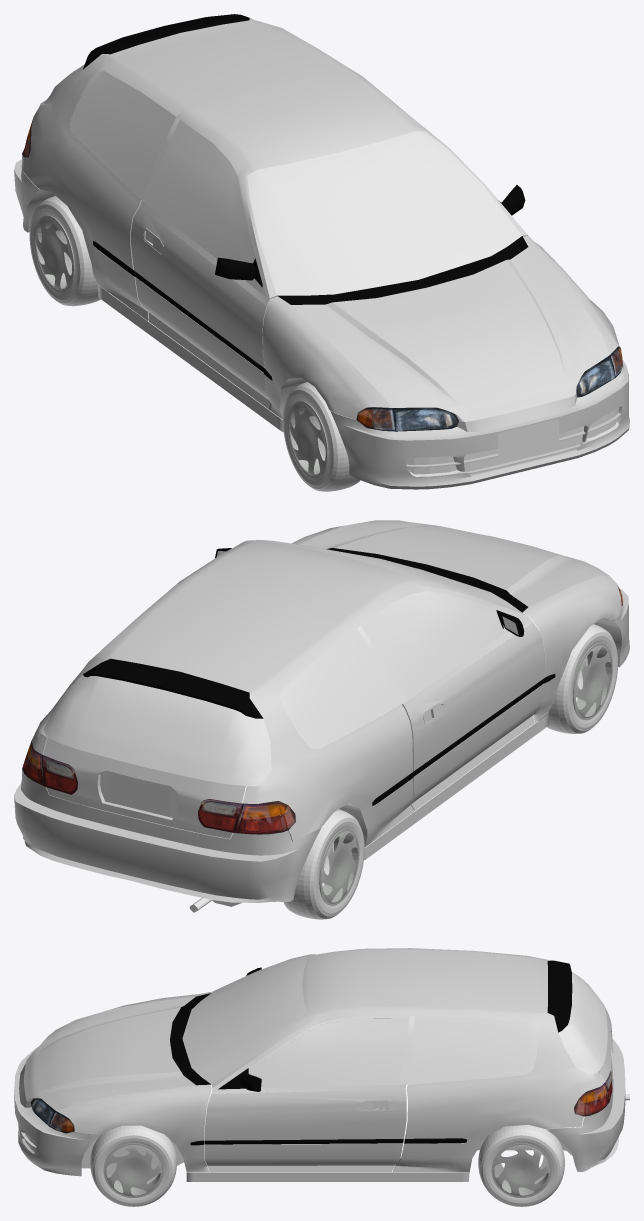
The model's file is CivicEg6_FreeToBlend.fbx.
3 views of the same model, one above another, from view 1: azimuth 30°, elevation 25°; view 2: azimuth 150°, elevation 25°; view 3: azimuth 270°, elevation 25° (orthographic). The views are drawn at different scales.
Parts seen in each view (by area): view 1: mainbody, frontbumper.001, mainbody.001, frontbumper, front fender, mainbody.002, mainbody.003, Circle.003, Circle.002, mainbody.005, frontbumper.005, sideskirt (+7 smaller); view 2: mainbody, rear bumper, trunk.001, frontbumper.001, mainbody.002, mainbody.003, trunk, front fender, Circle.003, Circle.002, mainbody.004, spoiler (+6 smaller); view 3: mainbody, frontbumper.001, mainbody.001, mainbody.002, mainbody.003, front fender, Circle.001, Circle, frontbumper, rear bumper, trunk.001, sideskirt (+9 smaller).
Part boxes in pixels (x1=…): mainbody: x1=22, y1=18, x2=528, y2=408; frontbumper.001: x1=291, y1=247, x2=609, y2=421; mainbody.001: x1=247, y1=131, x2=521, y2=295; frontbumper: x1=330, y1=359, x2=629, y2=489; front fender: x1=262, y1=236, x2=620, y2=419; mainbody.002: x1=146, y1=119, x2=266, y2=296; mainbody.003: x1=69, y1=71, x2=176, y2=199; Circle.003: x1=29, y1=195, x2=100, y2=306; Circle.002: x1=283, y1=382, x2=360, y2=491; mainbody.005: x1=277, y1=236, x2=528, y2=304; frontbumper.005: x1=405, y1=407, x2=618, y2=475; sideskirt: x1=98, y1=285, x2=283, y2=432; mainbody: x1=31, y1=540, x2=545, y2=847; rear bumper: x1=14, y1=769, x2=321, y2=902; trunk.001: x1=43, y1=674, x2=271, y2=785; frontbumper.001: x1=300, y1=520, x2=609, y2=606; mainbody.002: x1=361, y1=591, x2=524, y2=700; mainbody.003: x1=93, y1=629, x2=402, y2=749; trunk: x1=43, y1=738, x2=245, y2=838; front fender: x1=292, y1=526, x2=621, y2=723; Circle.003: x1=283, y1=809, x2=364, y2=919; Circle.002: x1=536, y1=624, x2=617, y2=733; mainbody.004: x1=22, y1=741, x2=295, y2=834; spoiler: x1=83, y1=658, x2=263, y2=718; mainbody: x1=204, y1=948, x2=604, y2=1172; frontbumper.001: x1=24, y1=996, x2=195, y2=1110; mainbody.001: x1=182, y1=955, x2=308, y2=1084; mainbody.002: x1=248, y1=1016, x2=409, y2=1086; mainbody.003: x1=406, y1=1016, x2=537, y2=1084; front fender: x1=56, y1=992, x2=211, y2=1172; Circle.001: x1=478, y1=1124, x2=564, y2=1206; Circle: x1=90, y1=1125, x2=176, y2=1206; frontbumper: x1=14, y1=1047, x2=100, y2=1176; rear bumper: x1=546, y1=1039, x2=625, y2=1171; trunk.001: x1=558, y1=972, x2=607, y2=1073; sideskirt: x1=186, y1=1172, x2=469, y2=1181.
Bounding box in the file's own units: 364 × 266 × 820.
